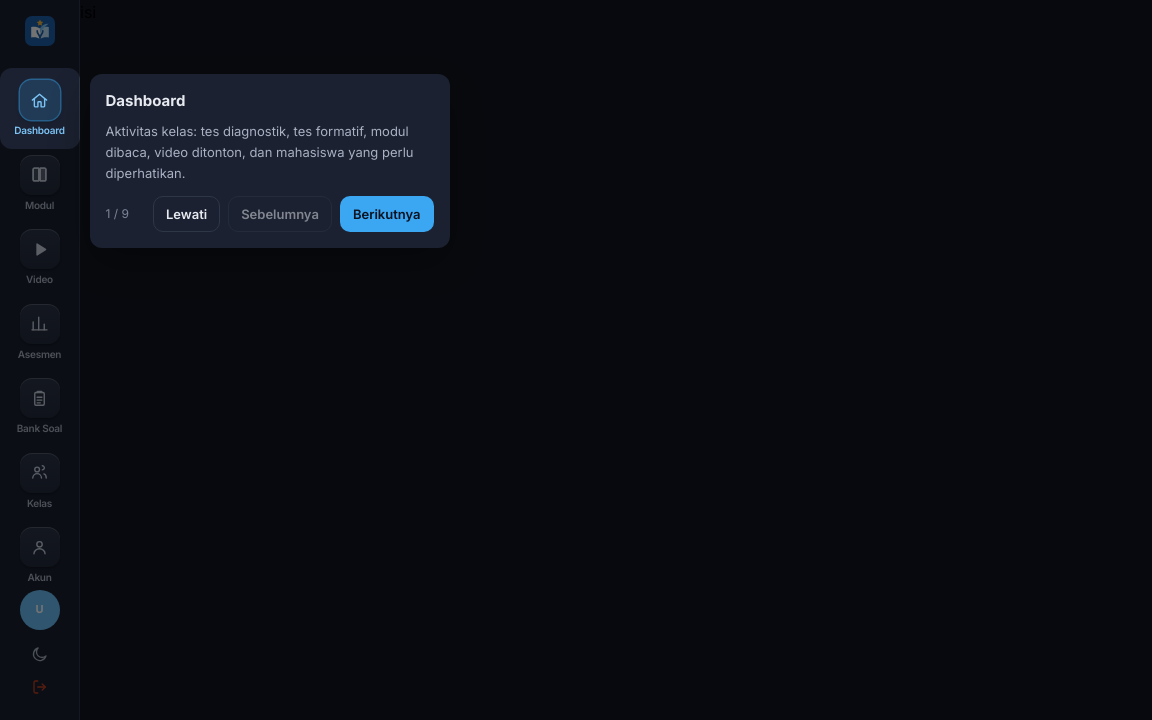
Test case: Layout: menu terbatas dan tur panduan › tur muncul sesudah WelcomeModal ditutup, sekali per akun
Expected: the dialog shows "Dashboard", [106,91,186,110]
Expected: the dialog shows "1 / 9", [90,74,450,248]
Click the button "Lewati" at (186, 214), box [153,196,220,232]
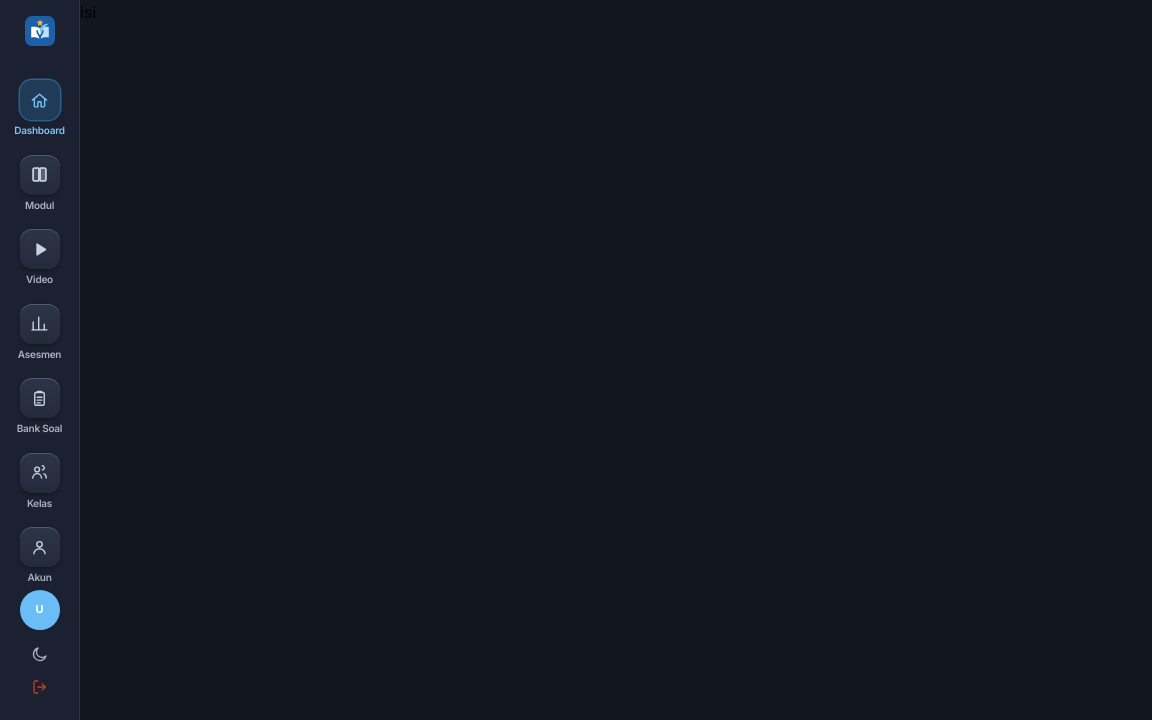
Expected: the dialog is gone
